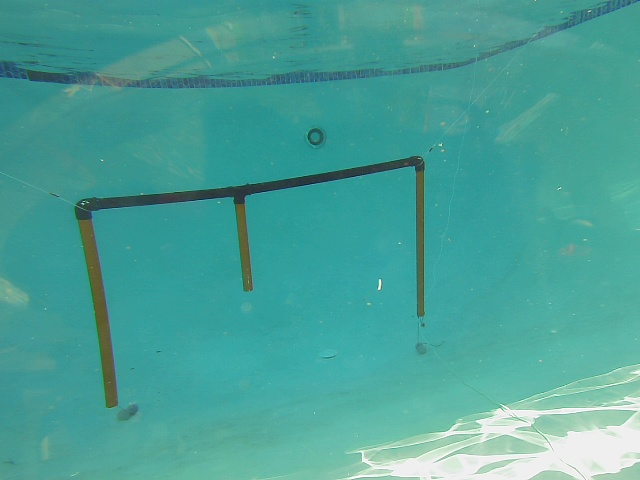Gate: (74, 212, 122, 411), (410, 165, 428, 324), (234, 197, 254, 298)
